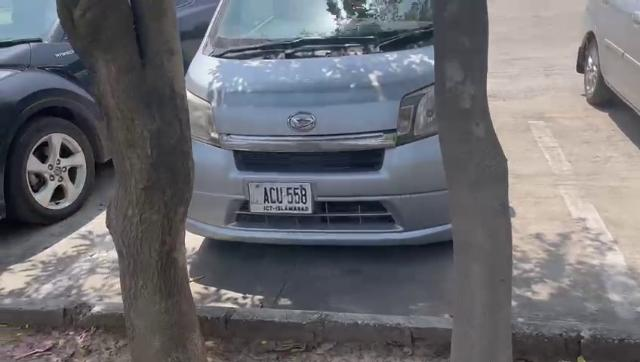plate: (248, 182, 312, 214)
